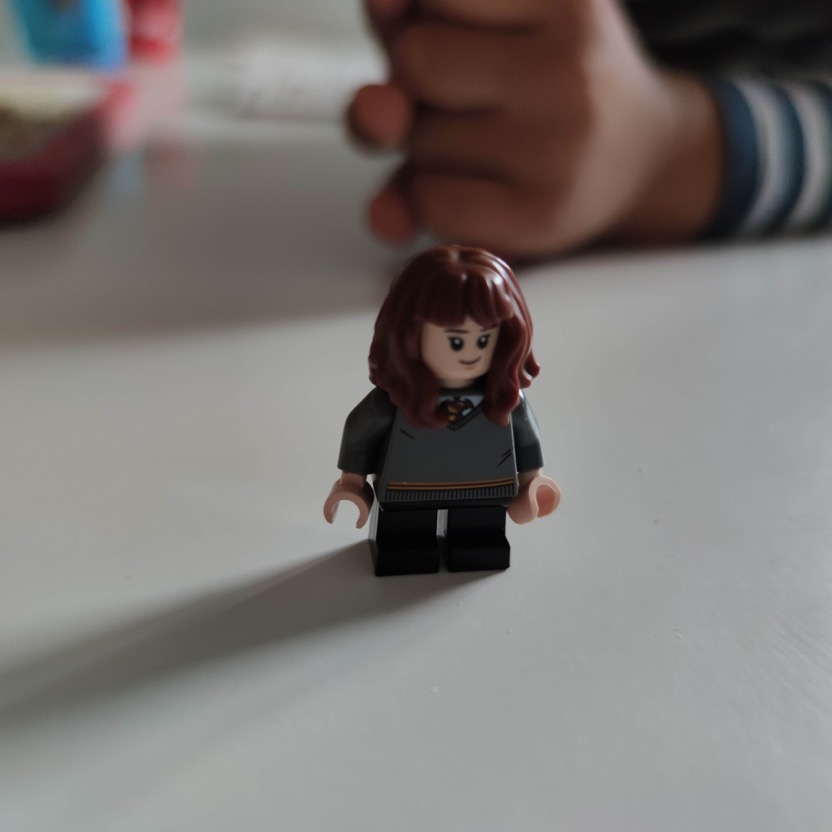lego: (322, 246, 563, 580)
